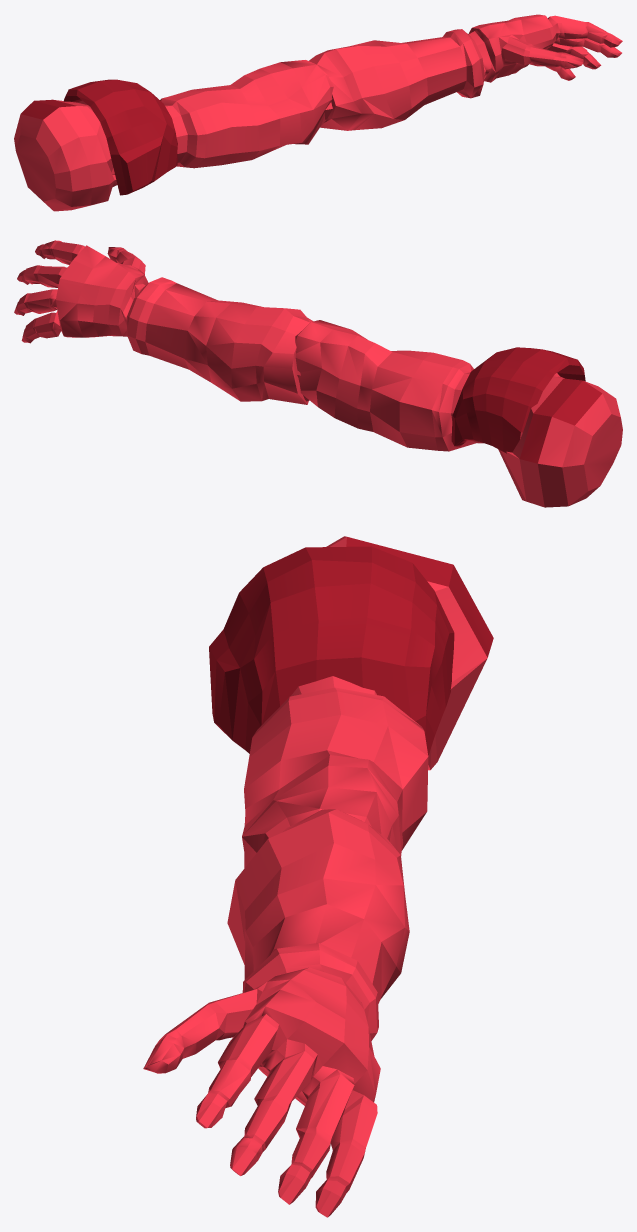
Rendered from right_arm.fbx.
3 renders of one model, top to bottom at view 1: azimuth 30°, elevation 25°; view 2: azimuth 150°, elevation 25°; view 3: azimuth 270°, elevation 25°, orthographic. The views are drawn at different scales.
Visible parts, largest first — view 1: right_upper_arm; view 2: right_upper_arm; view 3: right_upper_arm.
Boxes of the visible parts, x1,y1,x2,y2 form: right_upper_arm: (14,14,622,211); right_upper_arm: (14,240,622,507); right_upper_arm: (143,536,493,1217).
Bounding box in the file's own units: 0.9085 × 0.1838 × 0.2465.
